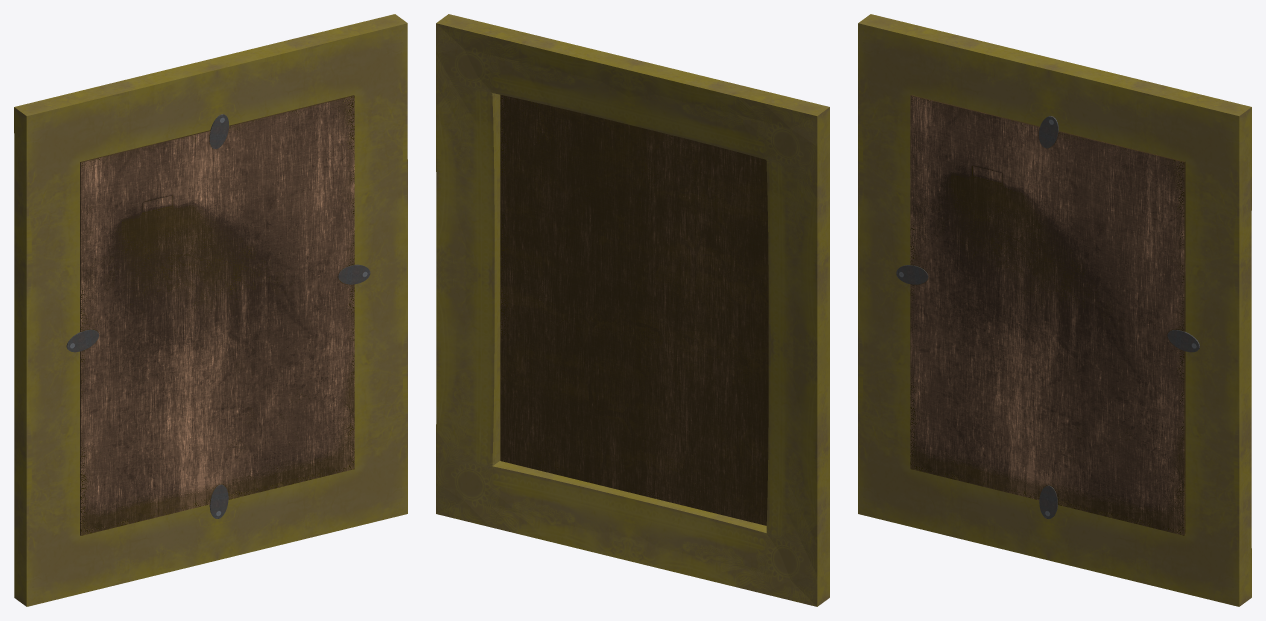
File: ornate_picture_frame_centered.glb
The picture shows the model from 3 angles, left to right: view 1: azimuth 30°, elevation 25°; view 2: azimuth 150°, elevation 25°; view 3: azimuth 330°, elevation 25°; orthographic projection.
Bounding box in the file's own units: 2.44 × 3 × 0.1538.
3 materials, 3 textured.
